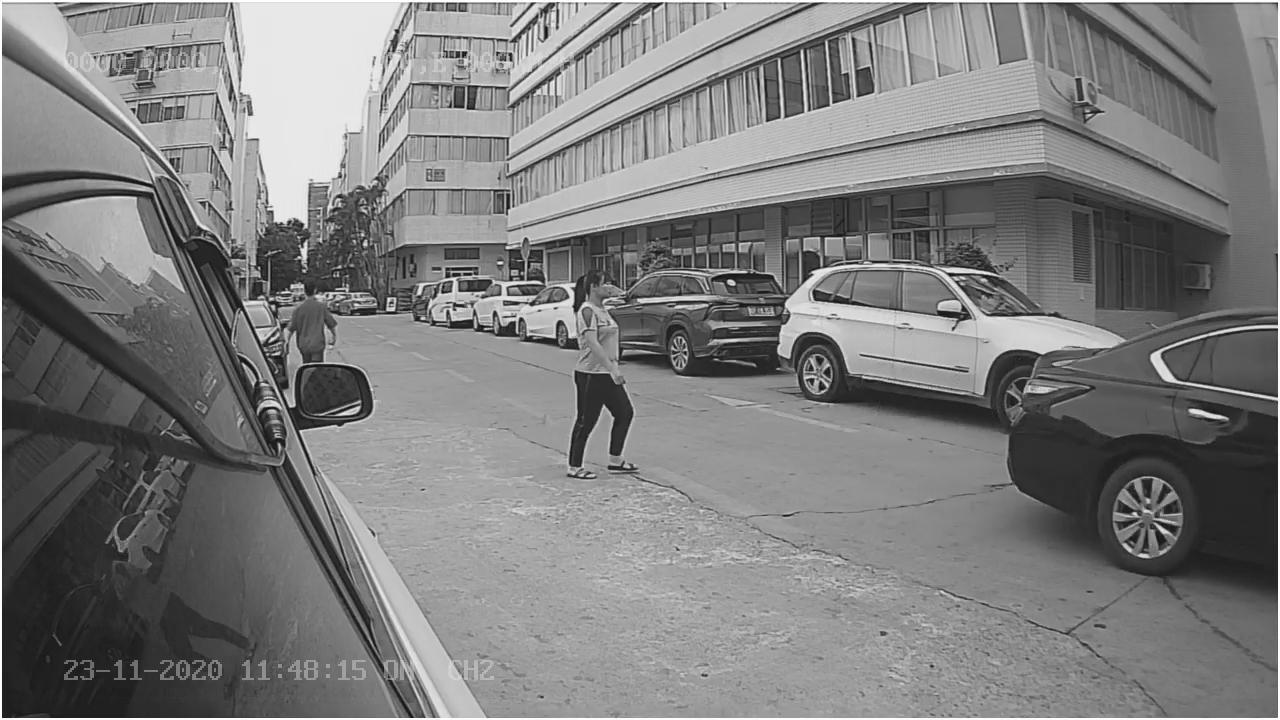person: (567, 266, 644, 479)
